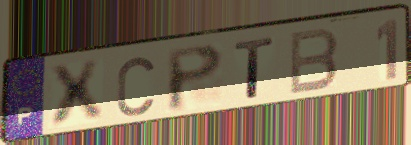1: (375, 16, 400, 82)
B: (287, 25, 341, 97)
C: (114, 54, 157, 120)
P: (165, 41, 226, 115)
T: (232, 34, 277, 102)
X: (46, 57, 107, 132)
